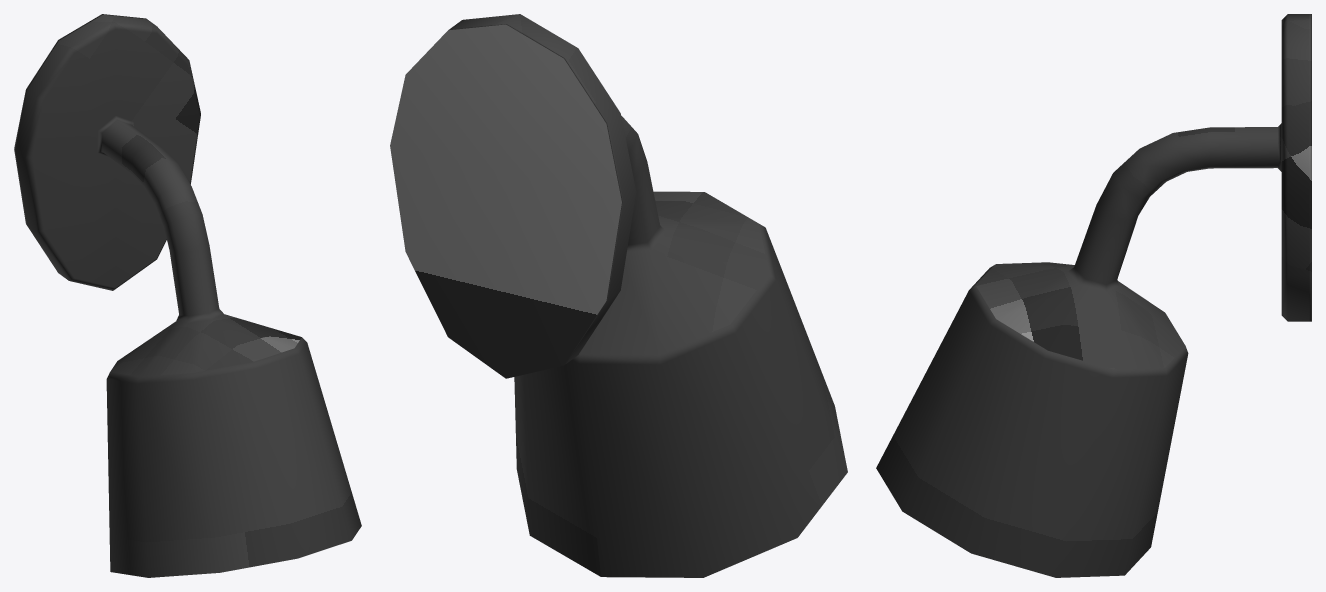
The model's file is a_sch_entrance01_obj_lamp.gltf.
3 views of the same model, side by side, from view 1: azimuth 30°, elevation 25°; view 2: azimuth 150°, elevation 25°; view 3: azimuth 270°, elevation 25° (orthographic). The views are drawn at different scales.
Visible parts, largest first — view 1: um_a_sch_entrance01_obj_lamp_model_a_sch_entrance01_obj_lamp; view 2: um_a_sch_entrance01_obj_lamp_model_a_sch_entrance01_obj_lamp; view 3: um_a_sch_entrance01_obj_lamp_model_a_sch_entrance01_obj_lamp.
Boxes of the visible parts, <box> form: um_a_sch_entrance01_obj_lamp_model_a_sch_entrance01_obj_lamp: <box>14,14,361,577</box>; um_a_sch_entrance01_obj_lamp_model_a_sch_entrance01_obj_lamp: <box>390,14,847,577</box>; um_a_sch_entrance01_obj_lamp_model_a_sch_entrance01_obj_lamp: <box>876,14,1311,577</box>.
Size of the model in its own units: 0.1462 by 0.3093 by 0.2321.
Materials: 2 (2 with a texture image).
